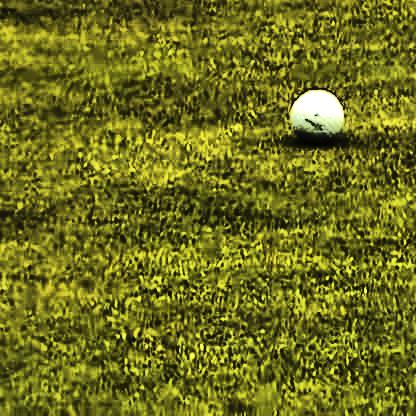golfball: (285, 86, 342, 142)
